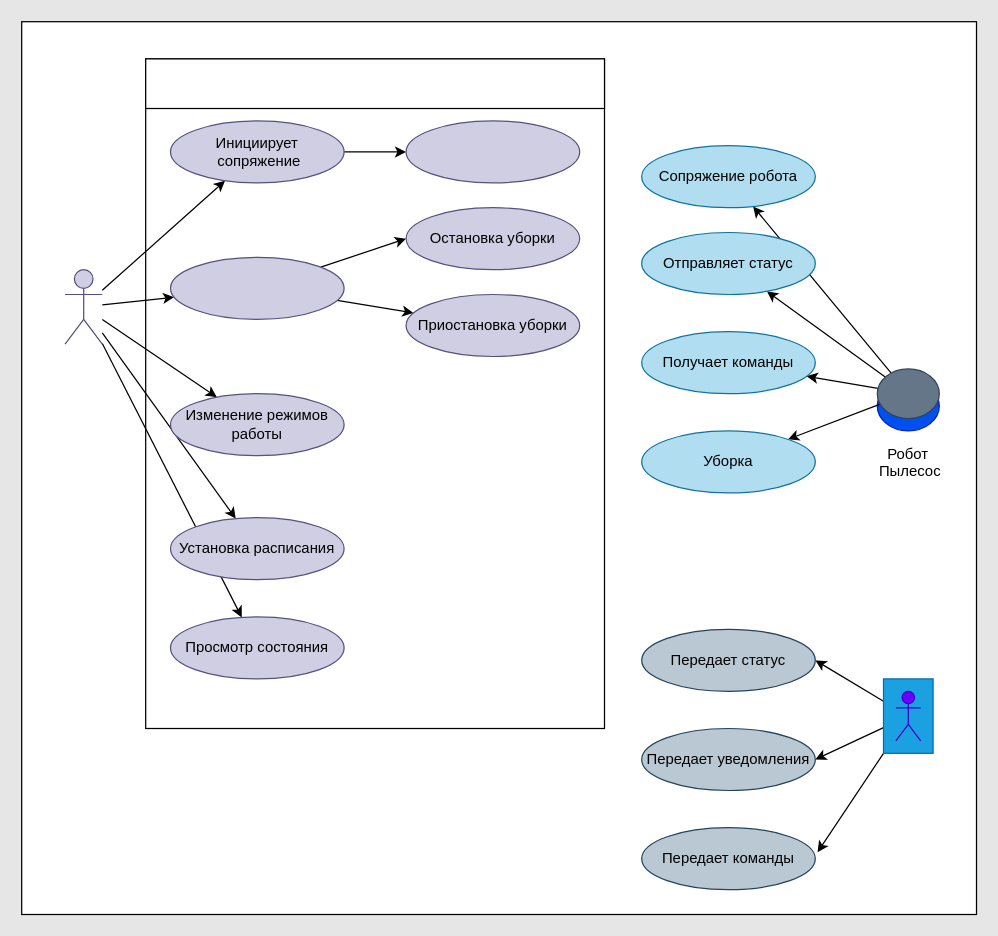
Image size: 998x936. Some labels were removed from this diagram. Here are the shapes that lost their labels. From the top down, the centre of each, then its label:
pixel 374 83: Мобильное Приложение
pixel 492 151: Вводит данные привязки
pixel 83 306: Пользователь
pixel 256 287: Запуск уборки
pixel 908 715: Облако/Сервер
